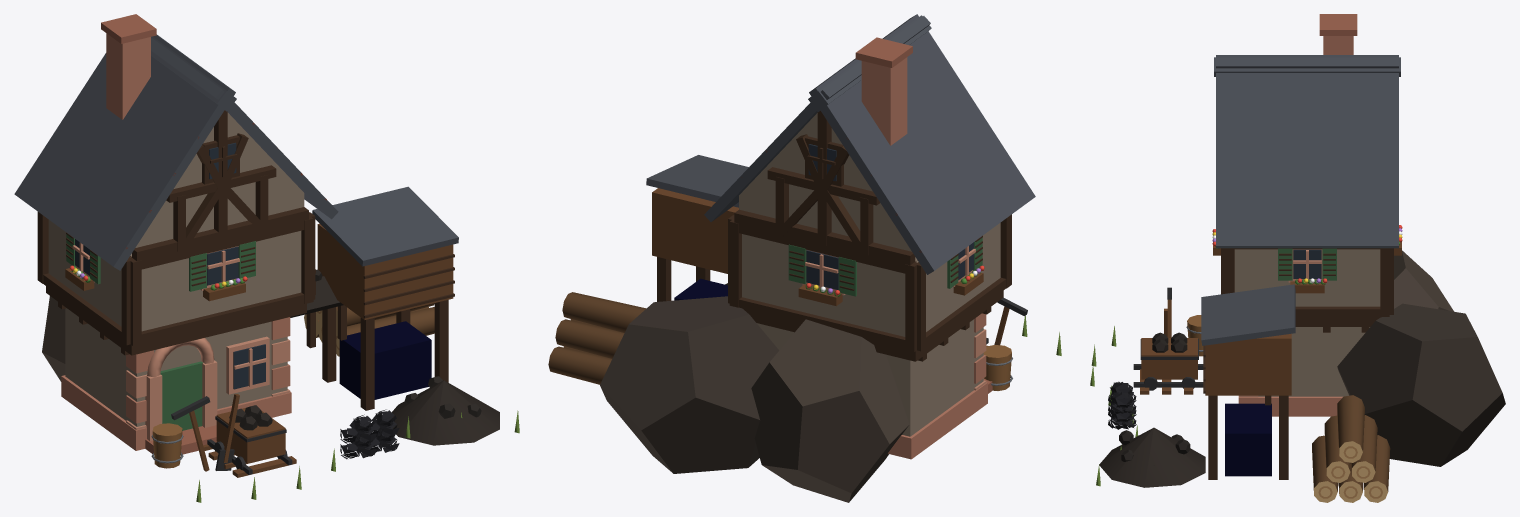
File: kohlemine.glb
3 renders of one model, left to right at view 1: azimuth 30°, elevation 25°; view 2: azimuth 150°, elevation 25°; view 3: azimuth 270°, elevation 25°, orthographic. The views are drawn at different scales.
Bounding box in the file's own units: 4.95 × 5.22 × 5.02.
